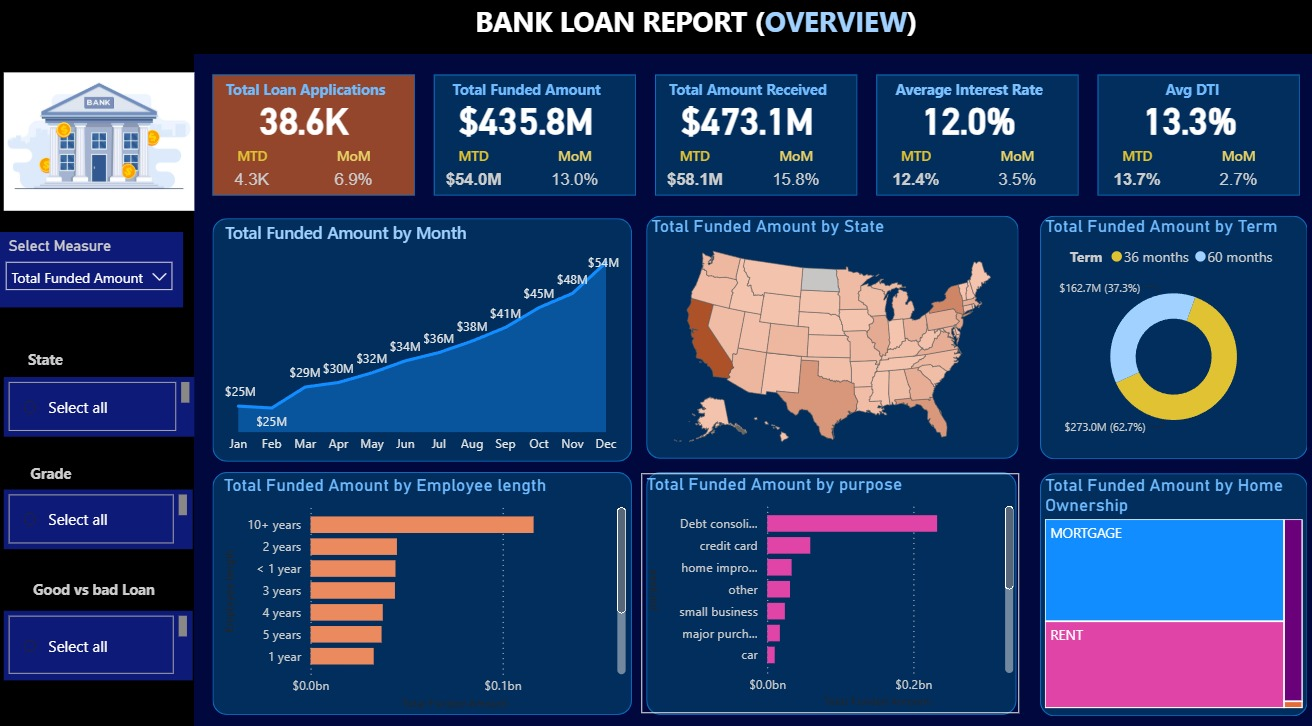

The dashboard page shown, as its layout file describes it:
{"tool":"powerbi","page":{"name":"overview","canvas":[1280,720],"ordinal":1},"visuals":[{"type":"shape","box":[0,0,1280.3,55],"z":0},{"type":"shape","box":[0,54.9,192,665.5],"z":1000},{"type":"textbox","box":[458.3,0,458.3,50.8],"z":2000},{"type":"shape","box":[209.5,75.4,195.5,117],"z":2000,"group":"g1"},{"type":"shape","box":[423.1,75.4,195.5,117],"z":2000,"group":"g2"},{"type":"shape","box":[636.7,75.4,195.5,117],"z":2000,"group":"g3"},{"type":"shape","box":[850.3,75.4,195.5,117],"z":2000,"group":"g4"},{"type":"shape","box":[1063.9,75.4,195.5,117],"z":2000,"group":"g5"},{"type":"group","id":"g1","title":"Group 1","box":[192.7,75.4,212.2,117.3],"z":3000},{"type":"advanceCardE03760C5AB684758B56AA29F9E6C257B","fields":{"mainMeasure":["bank_loan_data.Total Loan Applications"]},"box":[192.7,75.4,212.2,90.8],"z":4000,"group":"g1"},{"type":"group","id":"g2","title":"Group 1","box":[406.3,75.4,212.2,117.3],"z":4000},{"type":"advanceCardE03760C5AB684758B56AA29F9E6C257B","fields":{"mainMeasure":["bank_loan_data.Total Funded Amount"]},"box":[406.3,75.4,212.2,90.8],"z":4000,"group":"g2"},{"type":"advanceCardE03760C5AB684758B56AA29F9E6C257B","fields":{"mainMeasure":["bank_loan_data.Total Amount Received"]},"box":[619.9,75.4,212.2,90.8],"z":4000,"group":"g3"},{"type":"advanceCardE03760C5AB684758B56AA29F9E6C257B","fields":{"mainMeasure":["bank_loan_data.Avg Interest Rate"]},"box":[833.5,75.4,212.2,90.8],"z":4000,"group":"g4"},{"type":"advanceCardE03760C5AB684758B56AA29F9E6C257B","fields":{"mainMeasure":["bank_loan_data.Avg DTI"]},"box":[1047.1,75.4,212.2,90.8],"z":4000,"group":"g5"},{"type":"textbox","box":[216.4,75.4,164.7,36.3],"z":5000,"group":"g1"},{"type":"textbox","box":[430,75.4,164.7,36.3],"z":5000,"group":"g2"},{"type":"group","id":"g3","title":"Group 1","box":[619.9,75.4,212.2,117.3],"z":5000},{"type":"textbox","box":[643.6,75.4,164.7,36.3],"z":5000,"group":"g3"},{"type":"textbox","box":[857.2,75.4,164.7,36.3],"z":5000,"group":"g4"},{"type":"textbox","box":[1070.8,75.4,164.7,36.3],"z":5000,"group":"g5"},{"type":"group","id":"g4","title":"Group 1","box":[833.5,75.4,212.2,117.3],"z":6000},{"type":"advanceCardE03760C5AB684758B56AA29F9E6C257B","title":"MTD","fields":{"mainMeasure":["bank_loan_data.MTD Loan Applications"]},"box":[209.5,143.8,76.8,48.9],"z":6000,"group":"g1"},{"type":"advanceCardE03760C5AB684758B56AA29F9E6C257B","title":"MTD","fields":{"mainMeasure":["bank_loan_data.MTD Funded Amount"]},"box":[423.1,143.8,76.8,48.9],"z":6000,"group":"g2"},{"type":"advanceCardE03760C5AB684758B56AA29F9E6C257B","title":"MTD","fields":{"mainMeasure":["bank_loan_data.MTD Amount Received"]},"box":[636.7,143.8,76.8,48.9],"z":6000,"group":"g3"},{"type":"advanceCardE03760C5AB684758B56AA29F9E6C257B","title":"MTD","fields":{"mainMeasure":["bank_loan_data.MTD Avg Interest RAte"]},"box":[850.3,143.8,76.8,48.9],"z":6000,"group":"g4"},{"type":"advanceCardE03760C5AB684758B56AA29F9E6C257B","title":"MTD","fields":{"mainMeasure":["bank_loan_data.MTD Avg DTI"]},"box":[1063.9,143.8,76.8,48.9],"z":6000,"group":"g5"},{"type":"group","id":"g5","title":"Group 1","box":[1047.1,75.4,212.2,117.3],"z":7000},{"type":"advanceCardE03760C5AB684758B56AA29F9E6C257B","title":"MoM","fields":{"mainMeasure":["bank_loan_data.MoM Loan Applications"]},"box":[307.2,143.8,76.8,48.9],"z":7000,"group":"g1"},{"type":"advanceCardE03760C5AB684758B56AA29F9E6C257B","title":"MoM","fields":{"mainMeasure":["bank_loan_data.MoM Total Funded Amount"]},"box":[520.8,143.8,76.8,48.9],"z":7000,"group":"g2"},{"type":"advanceCardE03760C5AB684758B56AA29F9E6C257B","title":"MoM","fields":{"mainMeasure":["bank_loan_data.MoM Total Amount Received"]},"box":[734.4,143.8,76.8,48.9],"z":7000,"group":"g3"},{"type":"advanceCardE03760C5AB684758B56AA29F9E6C257B","title":"MoM","fields":{"mainMeasure":["bank_loan_data.MoM Avg Interest Rate"]},"box":[948,143.8,76.8,48.9],"z":7000,"group":"g4"},{"type":"advanceCardE03760C5AB684758B56AA29F9E6C257B","title":"MoM","fields":{"mainMeasure":["bank_loan_data.MoM Avg DTI"]},"box":[1161.6,143.8,76.8,48.9],"z":7000,"group":"g5"},{"type":"shape","box":[209.4,213.6,405,235],"z":8000},{"type":"advancedSlicerVisual","fields":{"Values":["bank_loan_data.address_state"]},"box":[8.9,366.9,184.2,57.9],"z":9000},{"type":"textbox","box":[8.9,335.7,80.2,31.2],"z":10000},{"type":"advancedSlicerVisual","fields":{"Values":["bank_loan_data.grade"]},"box":[8.9,475.3,182.7,57.9],"z":11000},{"type":"textbox","box":[8.9,445.6,90.6,29.7],"z":12000},{"type":"advancedSlicerVisual","fields":{"Values":["bank_loan_data.Good vs Bad loan"]},"box":[8.9,592.6,182.7,66.8],"z":13000},{"type":"textbox","box":[19.5,557.1,152.2,34.9],"z":14000},{"type":"areaChart","fields":{"Y":["bank_loan_data.Total Funded Amount"],"Category":["Date Table.Month"]},"box":[216.8,215.4,390.6,233.2],"z":15000},{"type":"slicer","fields":{"Values":["Select Measure.Select Measure"]},"box":[0,227.2,181.2,72.8],"z":16000},{"type":"shape","box":[628.3,210.9,359.4,234.7],"z":17000},{"type":"shapeMap","fields":{"Value":["bank_loan_data.Total Funded Amount"],"Category":["bank_loan_data.address_state"]},"box":[628.3,211.7,360,233.3],"z":18000},{"type":"shape","box":[1008.3,211.7,258.3,235],"z":19000},{"type":"donutChart","fields":{"Y":["bank_loan_data.Total Funded Amount"],"Category":["bank_loan_data.term"]},"box":[1008.3,211.7,258.3,223.3],"z":20000},{"type":"shape","box":[209.4,457.9,404.9,234.6],"z":21000},{"type":"shape","box":[628.3,457.9,357.4,234.6],"z":22000},{"type":"barChart","fields":{"Y":["bank_loan_data.Total Funded Amount"],"Category":["bank_loan_data.emp_length"]},"box":[216.4,460.7,397.9,231.8],"z":23000},{"type":"barChart","fields":{"Y":["bank_loan_data.Total Funded Amount"],"Category":["bank_loan_data.purpose"]},"box":[624.1,459.3,364.4,231.8],"z":24000},{"type":"shape","box":[1008,459.3,258.3,234.6],"z":25000},{"type":"treemap","fields":{"Values":["bank_loan_data.Total Funded Amount"],"Group":["bank_loan_data.home_ownership"]},"box":[1008,460.7,258.3,230.4],"z":26000},{"type":"image","box":[8.4,64.2,184.3,150.8],"z":26001}]}

Visuals, with their boxes in screenshot pixels (x1, y1, x2, y2), scaled from the page's 1280x720 canvas onto the 1312x726 screenshot:
shape: 0 0 1311 55
shape: 0 55 197 725
textbox: 470 0 940 51
shape: 215 76 415 194
shape: 434 76 634 194
shape: 653 76 853 194
shape: 872 76 1072 194
shape: 1090 76 1291 194
"Group 1" group: 198 76 415 194
advanceCardE03760C5AB684758B56AA29F9E6C257B - bank_loan_data.Total Loan Applications: 198 76 415 168
"Group 1" group: 416 76 634 194
advanceCardE03760C5AB684758B56AA29F9E6C257B - bank_loan_data.Total Funded Amount: 416 76 634 168
advanceCardE03760C5AB684758B56AA29F9E6C257B - bank_loan_data.Total Amount Received: 635 76 853 168
advanceCardE03760C5AB684758B56AA29F9E6C257B - bank_loan_data.Avg Interest Rate: 854 76 1072 168
advanceCardE03760C5AB684758B56AA29F9E6C257B - bank_loan_data.Avg DTI: 1073 76 1291 168
textbox: 222 76 391 113
textbox: 441 76 610 113
"Group 1" group: 635 76 853 194
textbox: 660 76 829 113
textbox: 879 76 1047 113
textbox: 1098 76 1266 113
"Group 1" group: 854 76 1072 194
"MTD" advanceCardE03760C5AB684758B56AA29F9E6C257B: 215 145 293 194
"MTD" advanceCardE03760C5AB684758B56AA29F9E6C257B: 434 145 512 194
"MTD" advanceCardE03760C5AB684758B56AA29F9E6C257B: 653 145 731 194
"MTD" advanceCardE03760C5AB684758B56AA29F9E6C257B: 872 145 950 194
"MTD" advanceCardE03760C5AB684758B56AA29F9E6C257B: 1090 145 1169 194
"Group 1" group: 1073 76 1291 194
"MoM" advanceCardE03760C5AB684758B56AA29F9E6C257B: 315 145 394 194
"MoM" advanceCardE03760C5AB684758B56AA29F9E6C257B: 534 145 613 194
"MoM" advanceCardE03760C5AB684758B56AA29F9E6C257B: 753 145 831 194
"MoM" advanceCardE03760C5AB684758B56AA29F9E6C257B: 972 145 1050 194
"MoM" advanceCardE03760C5AB684758B56AA29F9E6C257B: 1191 145 1269 194
shape: 215 215 630 452
advancedSlicerVisual - bank_loan_data.address_state: 9 370 198 428
textbox: 9 338 91 370
advancedSlicerVisual - bank_loan_data.grade: 9 479 196 538
textbox: 9 449 102 479
advancedSlicerVisual - bank_loan_data.Good vs Bad loan: 9 598 196 665
textbox: 20 562 176 597
areaChart - bank_loan_data.Total Funded Amount x Date Table.Month: 222 217 623 452
slicer - Select Measure.Select Measure: 0 229 186 302
shape: 644 213 1012 449
shapeMap - bank_loan_data.Total Funded Amount x bank_loan_data.address_state: 644 213 1013 449
shape: 1034 213 1298 450
donutChart - bank_loan_data.Total Funded Amount x bank_loan_data.term: 1034 213 1298 439
shape: 215 462 630 698
shape: 644 462 1010 698
barChart - bank_loan_data.Total Funded Amount x bank_loan_data.emp_length: 222 465 630 698
barChart - bank_loan_data.Total Funded Amount x bank_loan_data.purpose: 640 463 1013 697
shape: 1033 463 1298 700
treemap - bank_loan_data.Total Funded Amount x bank_loan_data.home_ownership: 1033 465 1298 697
image: 9 65 198 217
